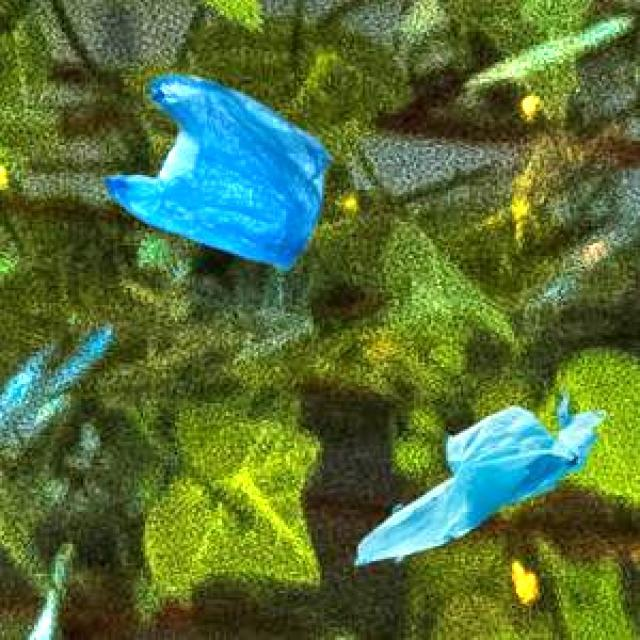Plastic_Bag: (102, 72, 331, 266), (351, 392, 603, 562)
